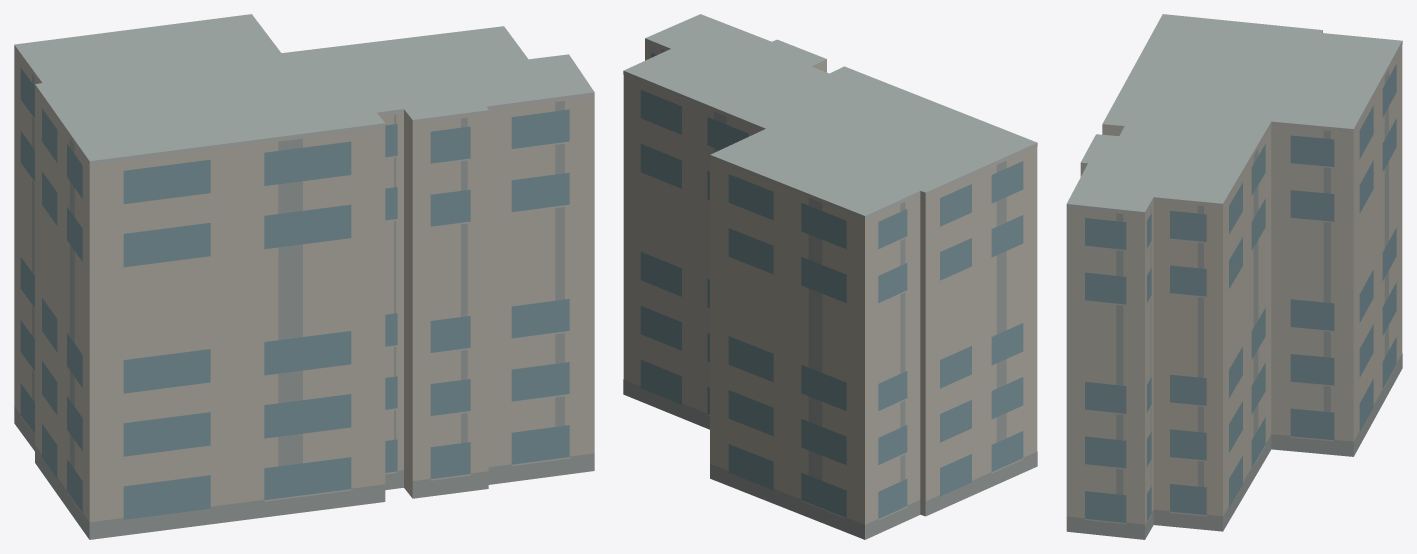
The model's file is survey-upis-32712644.glb.
3 renders of one model, left to right at view 1: azimuth 30°, elevation 25°; view 2: azimuth 150°, elevation 25°; view 3: azimuth 270°, elevation 25°, orthographic. The views are drawn at different scales.
Visible parts, largest first — view 1: survey-upis-32712644.tmp; view 2: survey-upis-32712644.tmp; view 3: survey-upis-32712644.tmp.
Boxes of the visible parts, bbox=[...] form: survey-upis-32712644.tmp: bbox=[14, 14, 594, 539]; survey-upis-32712644.tmp: bbox=[623, 14, 1037, 539]; survey-upis-32712644.tmp: bbox=[1066, 14, 1402, 539].
Bounding box in the file's own units: 25.42 × 19.6 × 18.21.
